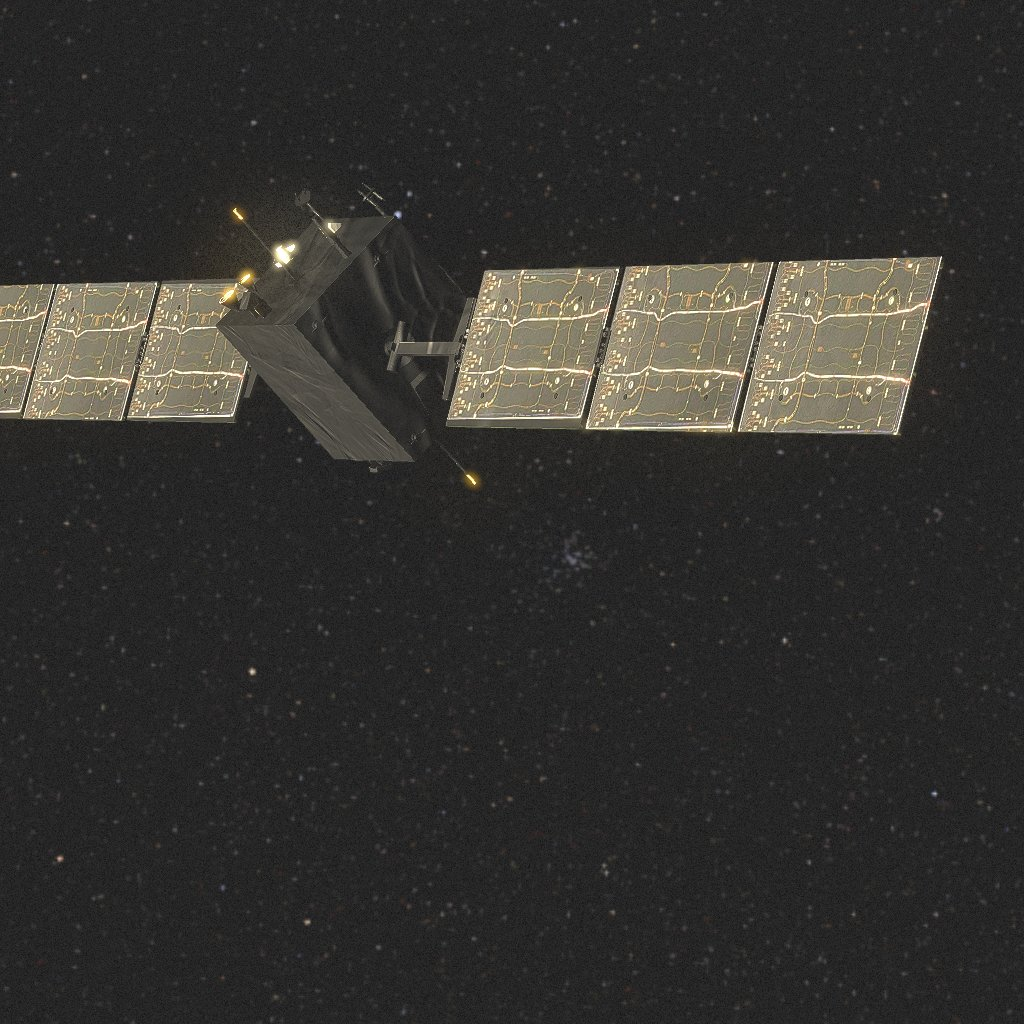smart_1: (0, 184, 945, 484)
